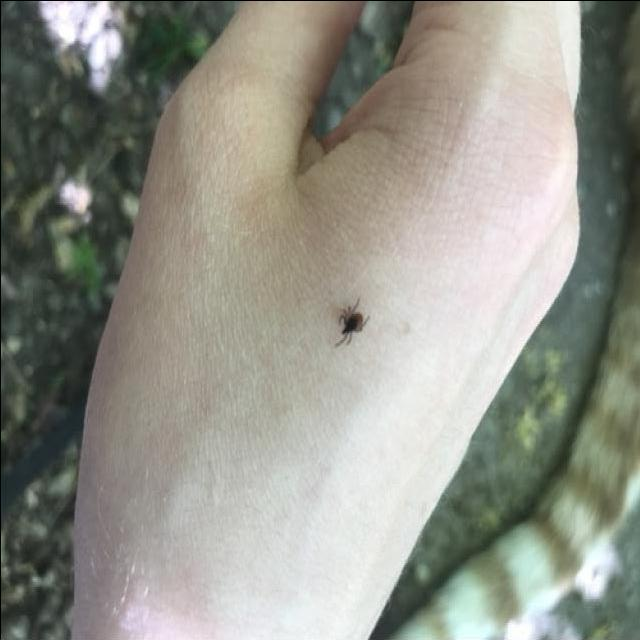Ixodes Ricinus-F: (333, 302, 369, 346)
